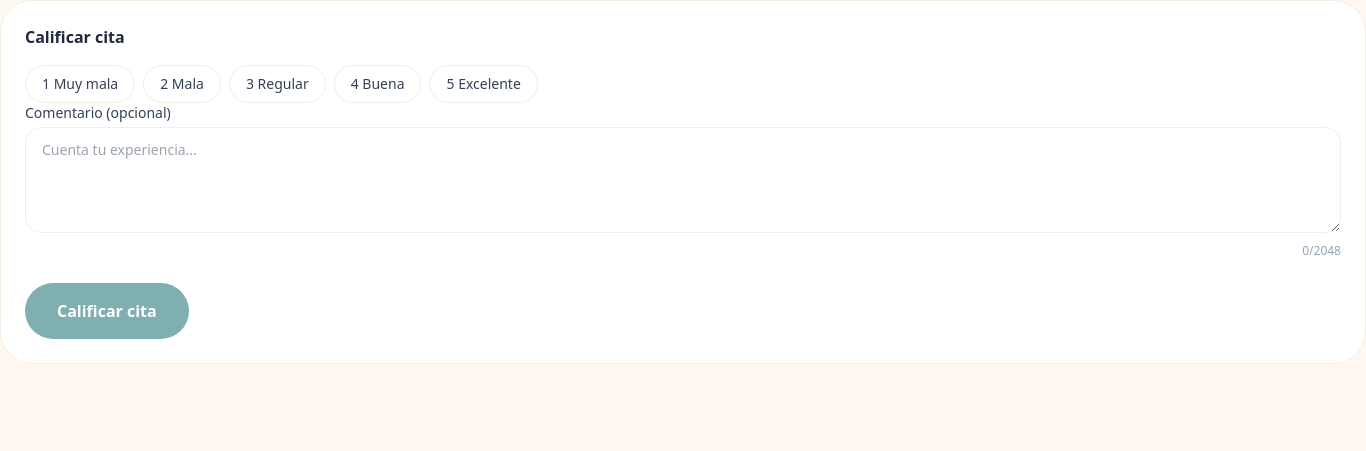
Scenario: RatingForm › shows the server error banner on 422
Click the radio button with aria-label "4 estrella": (378,84) [334,65,422,103]
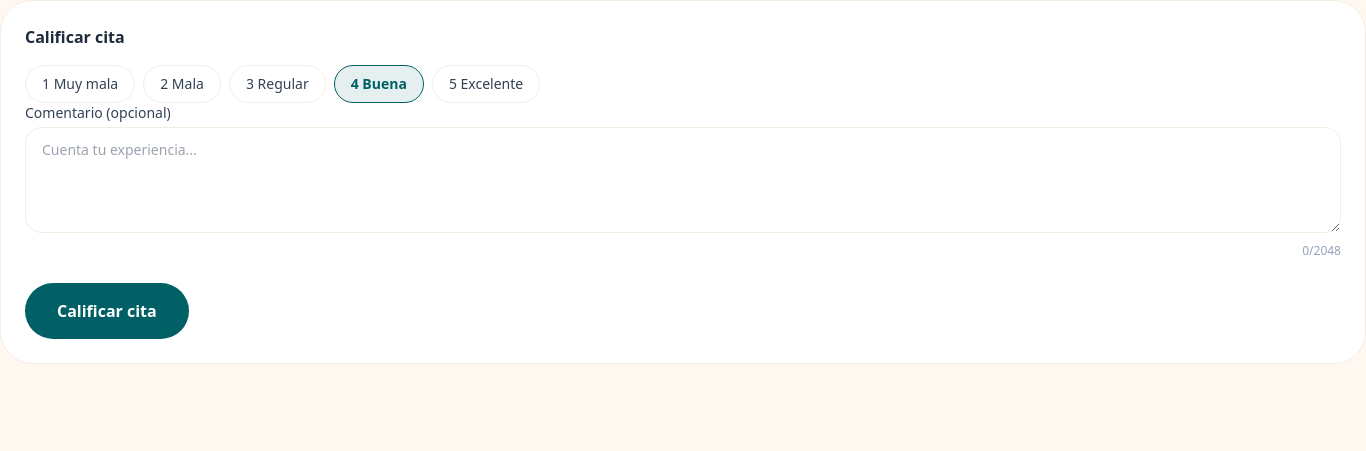
Click the button "Calificar cita": (107,311) [25,283,189,339]
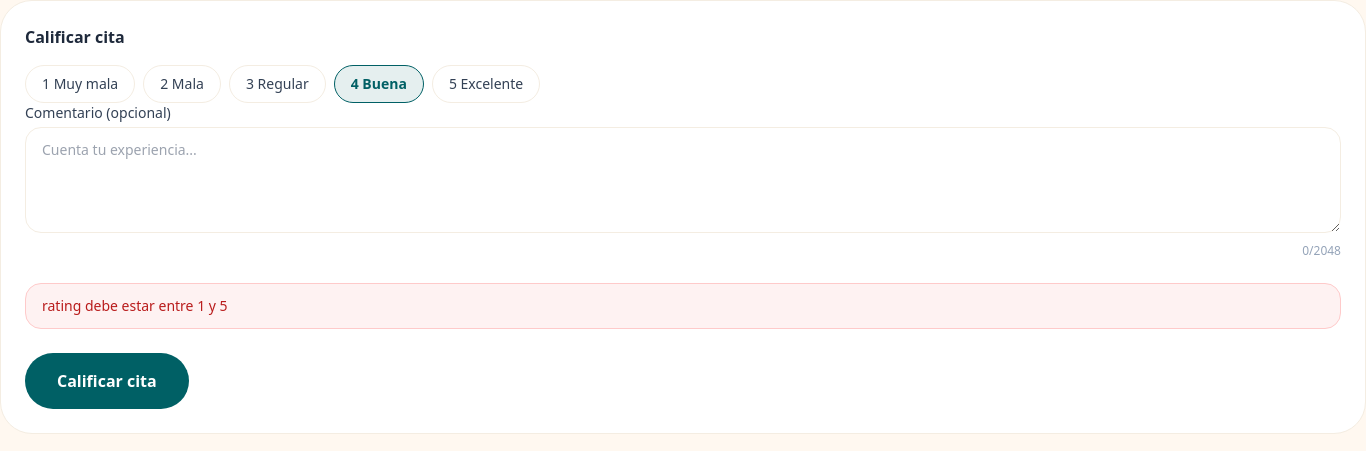
Expected: the text "rating debe estar entre 1 y 5" is shown, [25,283,1341,329]
